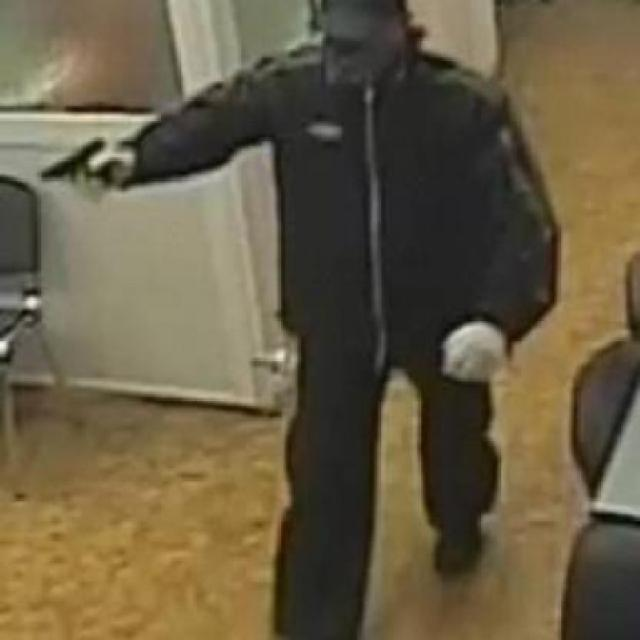weapon: (36, 128, 129, 210)
